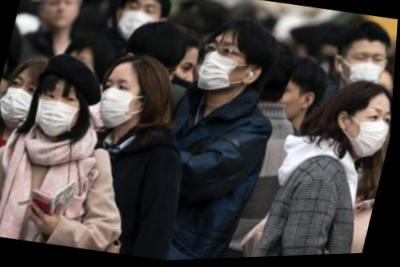NONE: (38, 1, 83, 33)
OK: (31, 82, 87, 141), (96, 71, 148, 133), (197, 39, 247, 98), (1, 71, 45, 135), (349, 105, 394, 167), (114, 1, 164, 48), (344, 49, 390, 96)
WRONG: (161, 54, 202, 112)
